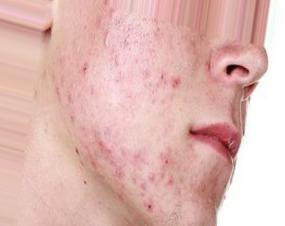Acne: (96, 132, 130, 178), (155, 148, 181, 191), (127, 185, 158, 213), (161, 69, 190, 94), (76, 62, 102, 86)
